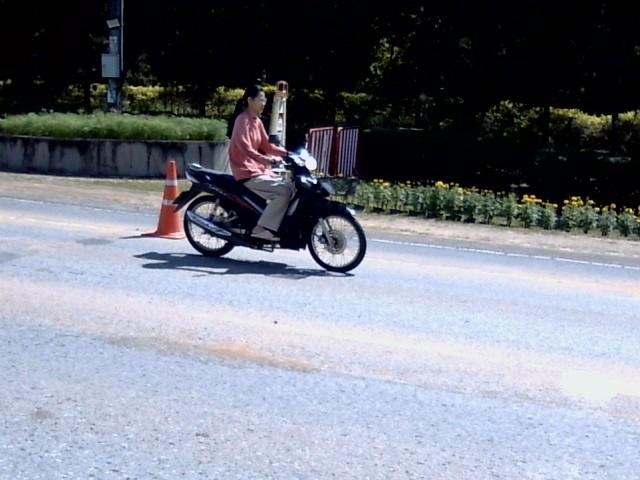motor: (169, 148, 365, 272)
no-helmet: (243, 80, 266, 113)
person: (229, 85, 293, 241)
